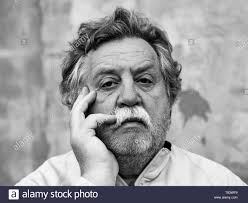white_male: (92, 57, 168, 154)
